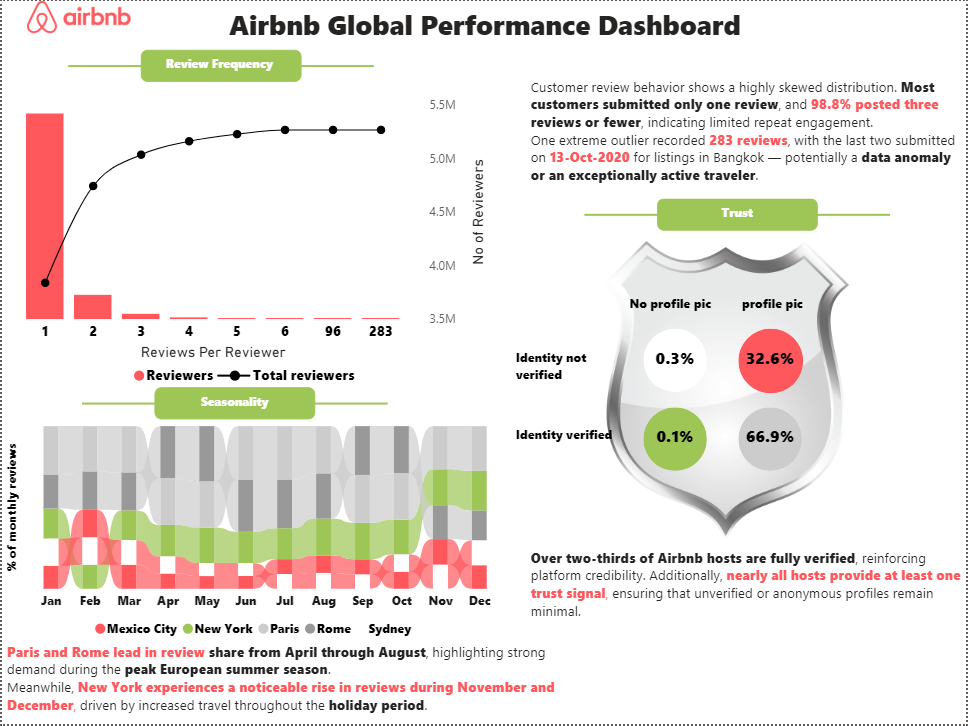

The dashboard page shown, as its layout file describes it:
{"tool":"powerbi","page":{"name":"Reviews","canvas":[960,720],"ordinal":2},"visuals":[{"type":"textbox","box":[216,0,528,64],"z":0},{"type":"image","box":[0,0,153,32.3],"z":1000},{"type":"shape","box":[65.3,56,304.1,17.6],"z":2000,"group":"g2"},{"type":"group","id":"g1","title":"Group 3","box":[579.7,196.5,304.8,32.3],"z":2000},{"type":"shape","box":[579.7,204,304.1,17.6],"z":2000,"group":"g1"},{"type":"shape","box":[79.9,391.9,304.1,17.6],"z":2000,"group":"g3"},{"type":"textbox","box":[521.2,539.9,439.1,93.3],"z":3000},{"type":"textbox","box":[521.2,70.9,439.1,125.6],"z":4000},{"type":"group","id":"g2","title":"Group 3","box":[65.3,48.5,304.8,32.3],"z":5000},{"type":"lineStackedColumnComboChart","fields":{"Category":["Reviews.Reviews Per Reviewer"],"Y":["Reviews.Reviewers"],"Y2":["Reviews.cumulative % of total reviwers"]},"box":[0,89.6,486.4,302.3],"z":7000},{"type":"group","id":"g3","title":"Group 3","box":[79.9,384.4,304.8,32.3],"z":8000},{"type":"image","box":[480.2,160.5,480.2,455.3],"z":9000},{"type":"textbox","box":[137.5,48.5,160,32],"z":10000,"group":"g2"},{"type":"textbox","box":[651.9,196.5,160,32],"z":10000,"group":"g1"},{"type":"textbox","box":[731.4,286.1,105.7,43.5],"z":10000},{"type":"textbox","box":[152.1,384.4,160,32],"z":10000,"group":"g3"},{"type":"textbox","box":[619.5,286.1,100.8,31.1],"z":11000},{"type":"textbox","box":[506.3,339.6,113.2,48.5],"z":12000},{"type":"textbox","box":[506.3,416.7,114.4,41.1],"z":13000},{"type":"shape","box":[732.8,403.7,63.4,63.4],"z":14000},{"type":"shape","box":[638.2,403.7,63.4,63.4],"z":15000},{"type":"shape","box":[732.5,325.8,64.7,64.7],"z":16000},{"type":"shape","box":[638.2,326.4,63.4,63.4],"z":17000},{"type":"card","fields":{"Values":["Dax House.NotVerified_No Profile %"]},"box":[635.7,331.4,68.4,53.5],"z":18000},{"type":"card","fields":{"Values":["Dax House.Verified_Profile %"]},"box":[730.4,408.6,68.4,53.5],"z":19000},{"type":"card","fields":{"Values":["Dax House.Verified_NoProfile %"]},"box":[635.7,408.6,68.4,53.5],"z":20000},{"type":"card","fields":{"Values":["Dax House.NotVerified_Profile %"]},"box":[730.7,331.4,68.4,53.5],"z":21000},{"type":"ribbonChart","fields":{"Series":["Listings.city"],"Y":["Reviews.% of monthly reviews"],"Category":["Reviews.Review Month"]},"box":[0,409.3,503.8,233.9],"z":22000},{"type":"textbox","box":[0,633.2,579.7,87.1],"z":23000}]}

Visuals, with their boxes in screenshot pixels (x1, y1, x2, y2), scaled from the page's 960x720 canvas onto the 968x726 screenshot:
textbox: [218, 0, 750, 65]
image: [0, 0, 154, 33]
shape: [66, 56, 372, 74]
"Group 3" group: [585, 198, 892, 231]
shape: [585, 206, 891, 223]
shape: [81, 395, 387, 413]
textbox: [526, 544, 967, 638]
textbox: [526, 71, 967, 198]
"Group 3" group: [66, 49, 373, 81]
lineStackedColumnComboChart - Reviews.Reviews Per Reviewer x Reviews.Reviewers: [0, 90, 490, 395]
"Group 3" group: [81, 388, 388, 420]
image: [484, 162, 967, 621]
textbox: [139, 49, 300, 81]
textbox: [657, 198, 819, 230]
textbox: [737, 288, 844, 332]
textbox: [153, 388, 315, 420]
textbox: [625, 288, 726, 320]
textbox: [511, 342, 625, 391]
textbox: [511, 420, 626, 462]
shape: [739, 407, 803, 471]
shape: [644, 407, 707, 471]
shape: [739, 329, 804, 394]
shape: [644, 329, 707, 393]
card - Dax House.NotVerified_No Profile %: [641, 334, 710, 388]
card - Dax House.Verified_Profile %: [736, 412, 805, 466]
card - Dax House.Verified_NoProfile %: [641, 412, 710, 466]
card - Dax House.NotVerified_Profile %: [737, 334, 806, 388]
ribbonChart - Listings.city x Reviews.% of monthly reviews: [0, 413, 508, 649]
textbox: [0, 638, 585, 725]
